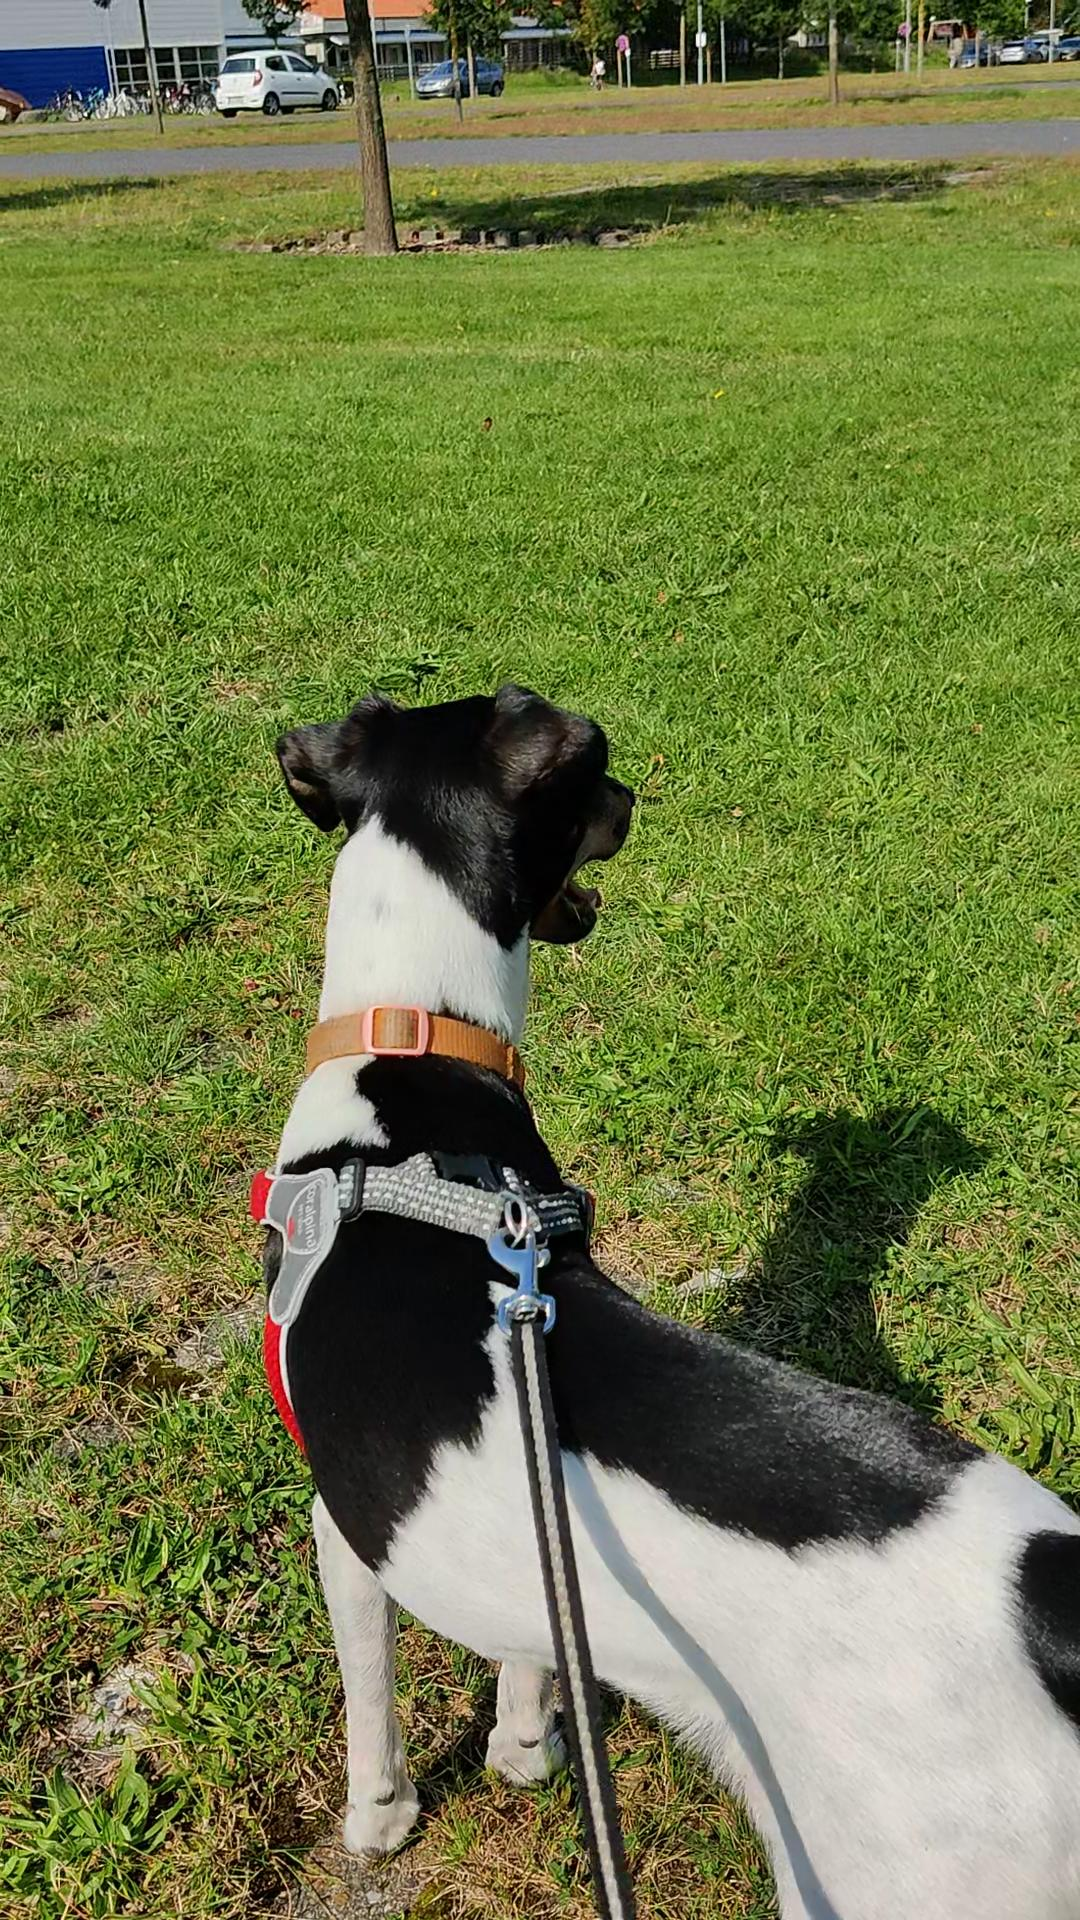Dog: (216, 676, 1079, 1919)
